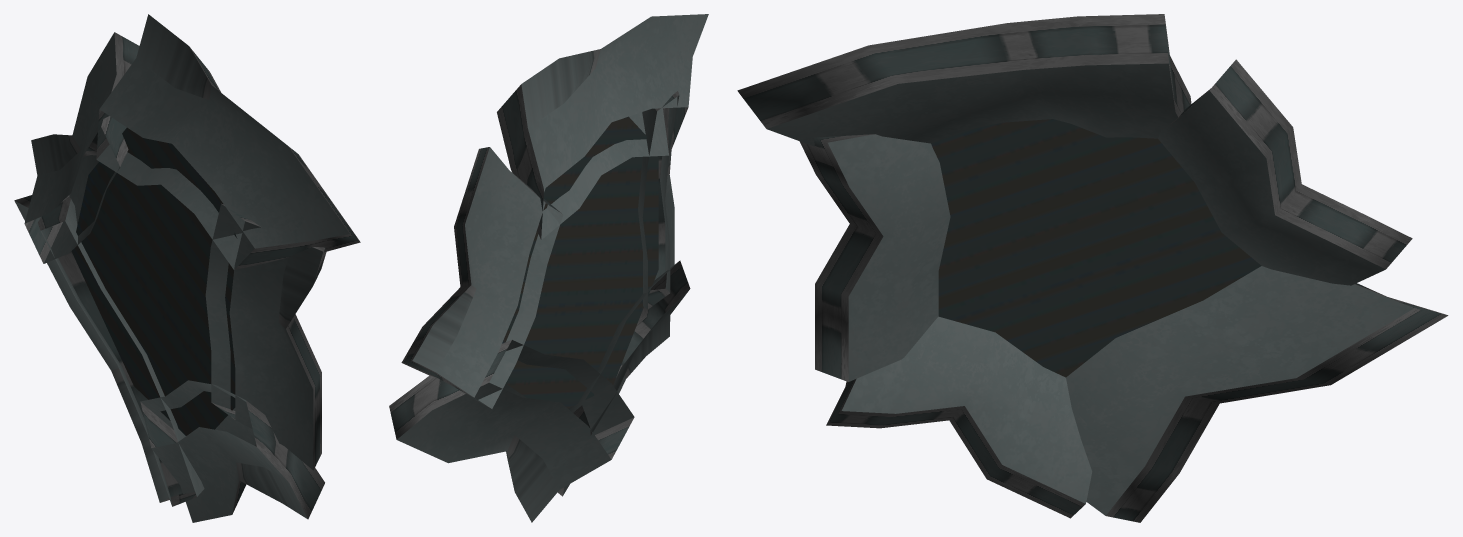
Rendered from mdlCLHoleSmall.fbx.
The picture shows the model from 3 angles, left to right: view 1: azimuth 30°, elevation 25°; view 2: azimuth 150°, elevation 25°; view 3: azimuth 270°, elevation 25°; orthographic projection. The views are drawn at different scales.
Parts seen in each view (by area): view 1: HoleRound; view 2: HoleRound; view 3: HoleRound.
Boxes of the visible parts, x1=… form: HoleRound: x1=14, y1=14, x2=360, y2=522; HoleRound: x1=389, y1=14, x2=708, y2=522; HoleRound: x1=737, y1=14, x2=1448, y2=522.
Bounding box in the file's own units: 111 × 836 × 1060.
